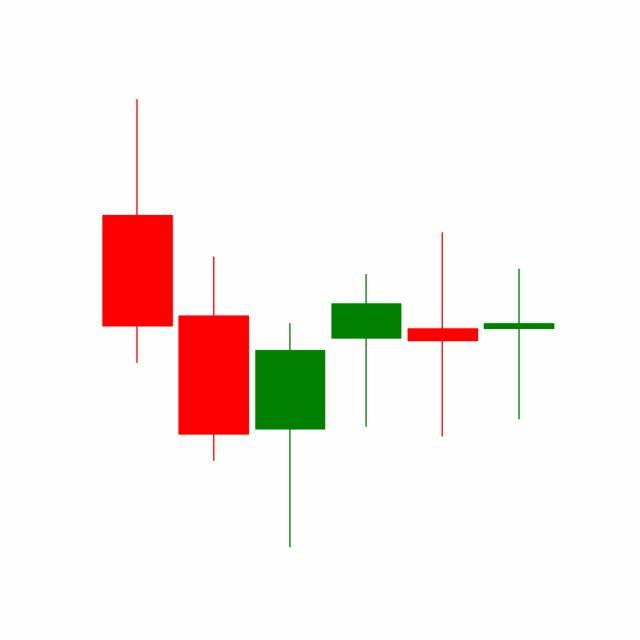Tasuki Gap: (252, 228, 482, 548)
